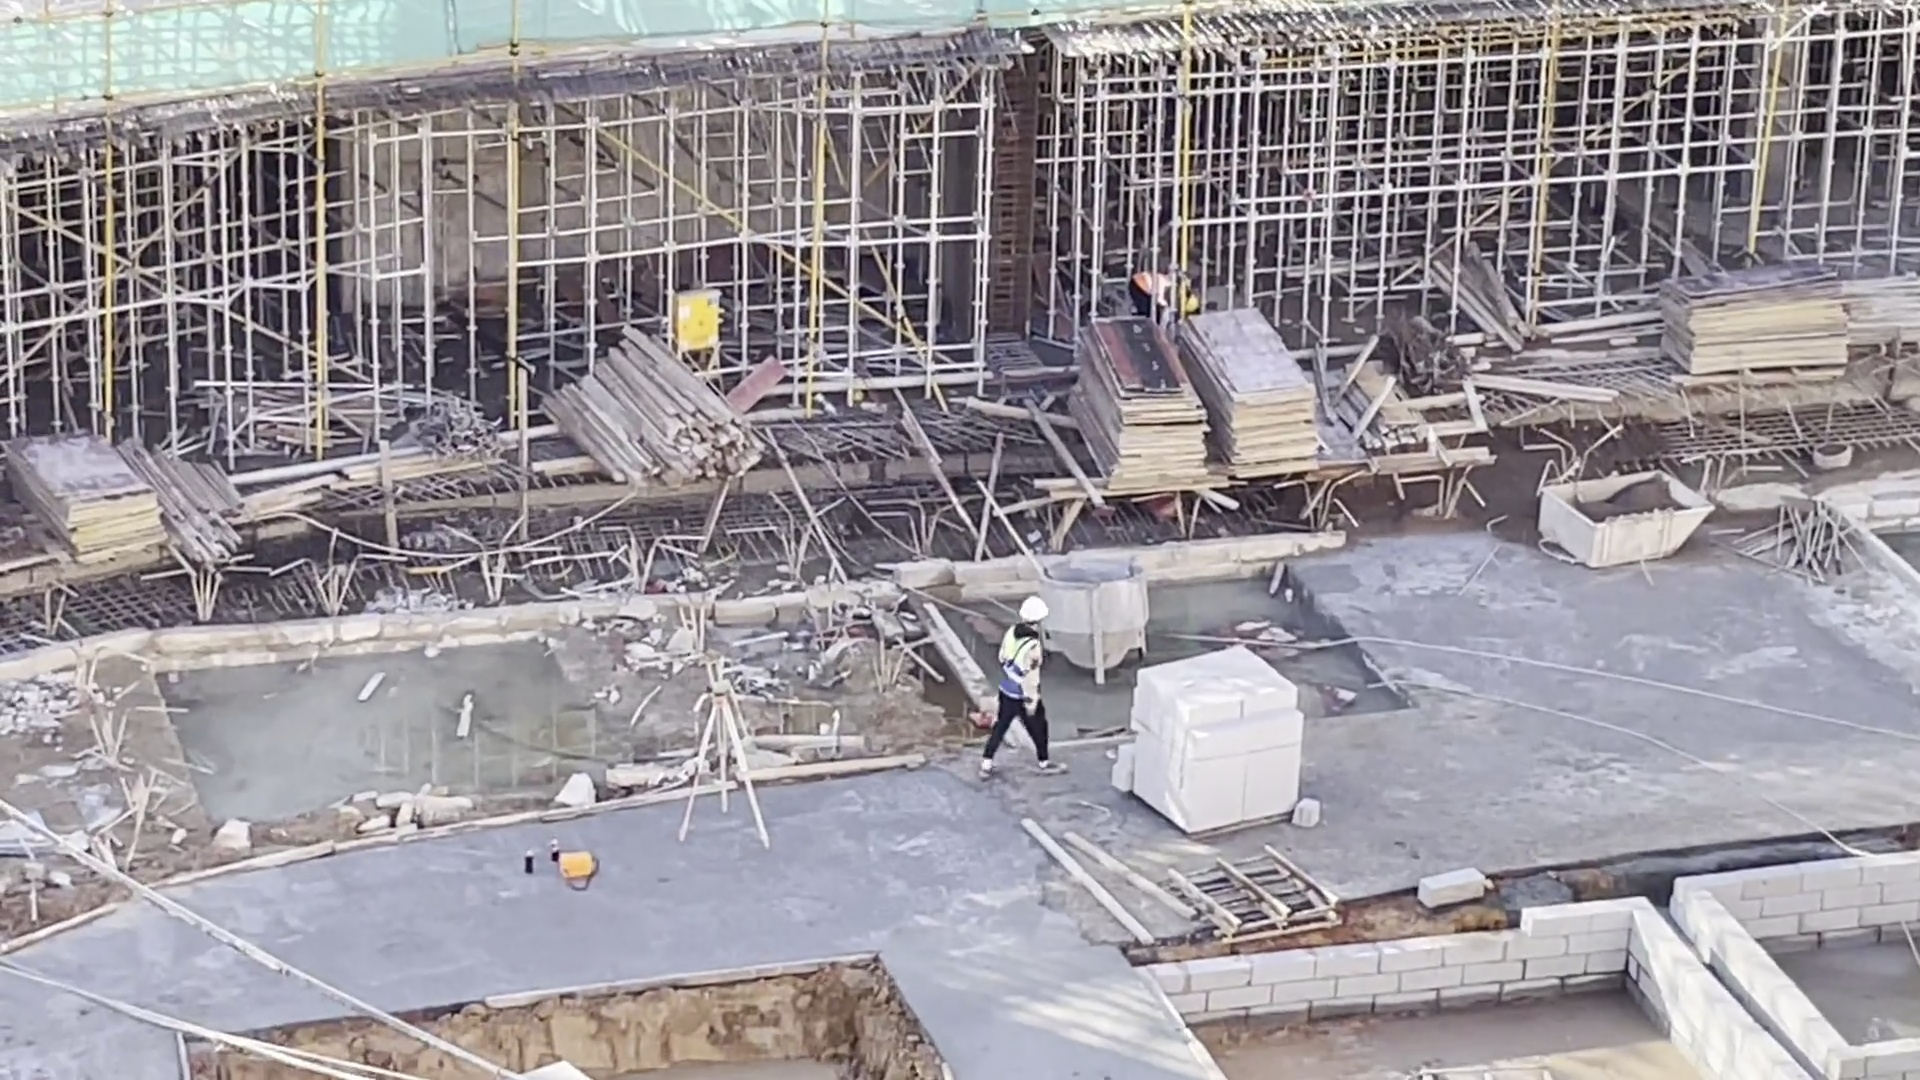board: (1055, 315, 1211, 501), (1649, 265, 1856, 387), (1184, 304, 1325, 480), (14, 428, 174, 565)
brick: (1130, 642, 1299, 835)
ebox: (671, 278, 726, 357)
helmet: (1014, 597, 1052, 623)
hopper: (1536, 467, 1715, 571), (1033, 554, 1148, 689)
person: (975, 595, 1073, 785)
vest: (999, 630, 1038, 705)
wood: (537, 324, 780, 486), (163, 442, 245, 574)
